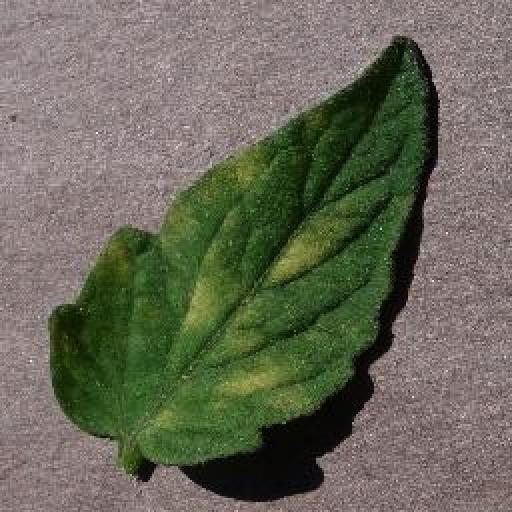disease_tomato: (48, 36, 434, 470)
